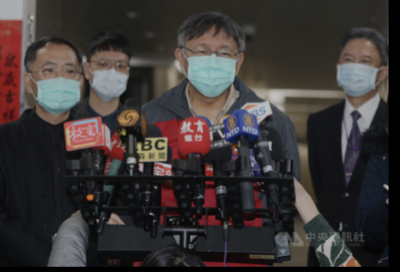with_mask: (184, 38, 238, 94), (32, 57, 83, 111), (339, 48, 380, 96), (90, 54, 130, 98)
